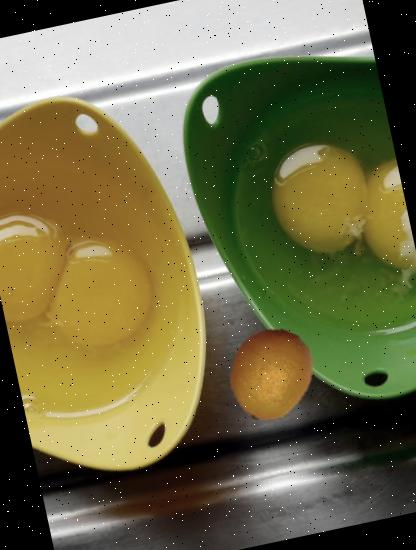Lemon: (212, 318, 326, 433)
